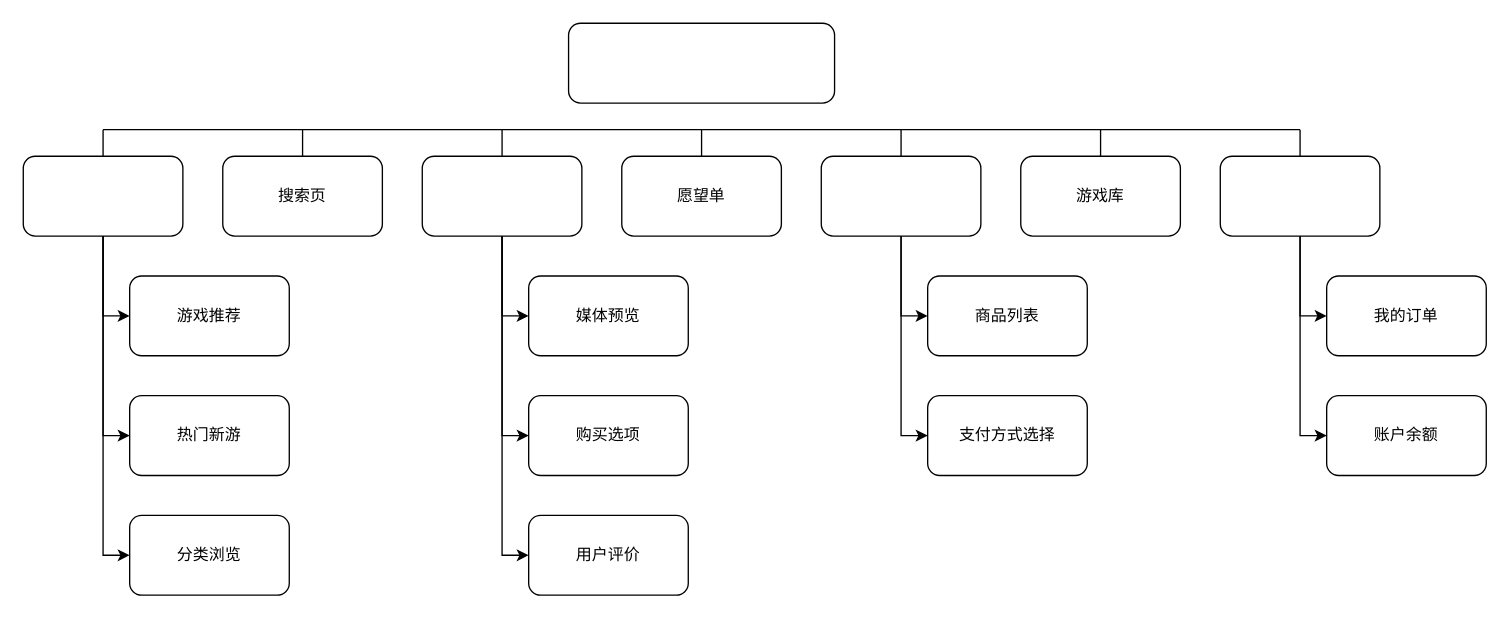
Some shapes in this 1510 by 618 pixel diagram are drawn without their labels. The shapes that lost their labels are listed below. From the top down, each one's centre as x and y in pixels, then its label:
the point at 701,62: SBEAM商城产品结构图
the point at 102,195: 首页
the point at 501,195: 游戏详情页
the point at 900,195: 支付结算页
the point at 1299,195: 用户中心
